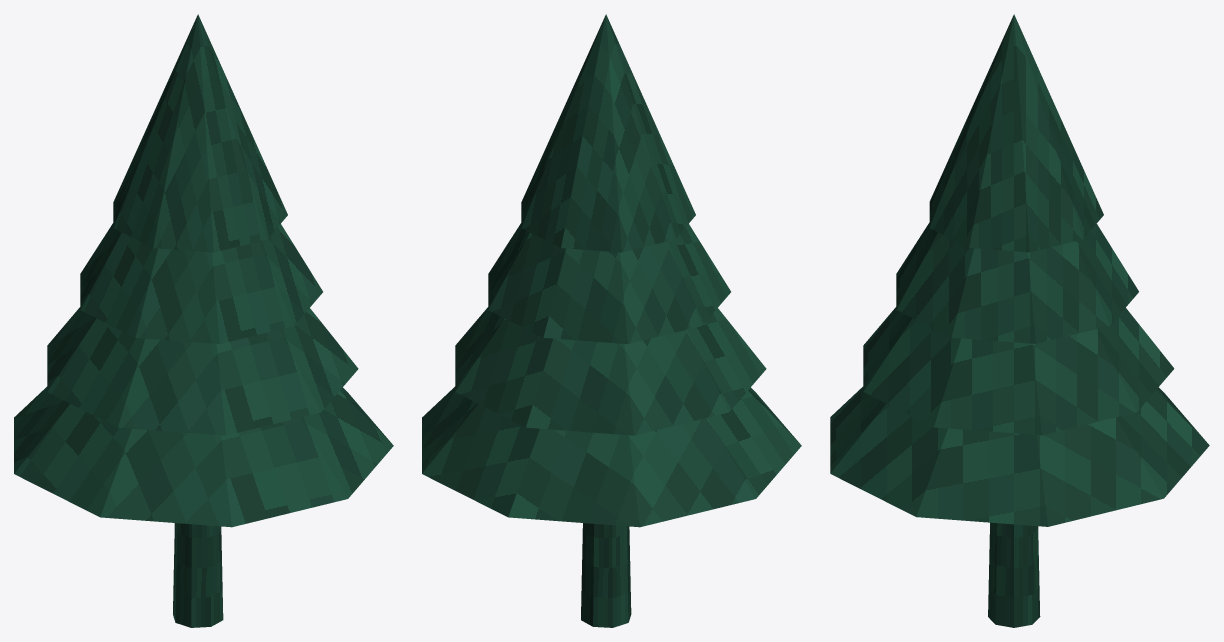
File: pine_27.glb
3 renders of one model, left to right at view 1: azimuth 30°, elevation 25°; view 2: azimuth 150°, elevation 25°; view 3: azimuth 270°, elevation 25°, orthographic.
Parts seen in each view (by area): view 1: Needles, Needles.001, Needles.003, Needles.002, Trunk; view 2: Needles, Needles.001, Needles.003, Needles.002, Trunk; view 3: Needles, Needles.001, Needles.003, Needles.002, Trunk.
Part boxes in pixels (x1,y1,x2,y2): Needles: [14, 386, 393, 527]; Needles.001: [47, 307, 358, 435]; Needles.003: [113, 14, 287, 252]; Needles.002: [80, 223, 322, 343]; Trunk: [173, 523, 223, 627]; Needles: [422, 386, 801, 527]; Needles.001: [455, 307, 766, 435]; Needles.003: [521, 14, 695, 252]; Needles.002: [488, 223, 730, 343]; Trunk: [581, 523, 631, 627]; Needles: [830, 386, 1209, 526]; Needles.001: [863, 307, 1174, 435]; Needles.003: [929, 14, 1103, 252]; Needles.002: [896, 222, 1138, 343]; Trunk: [988, 522, 1040, 627].
Size of the model in its own units: 2.95 by 5.1 by 2.91.
Materials: 1 (1 with a texture image).
